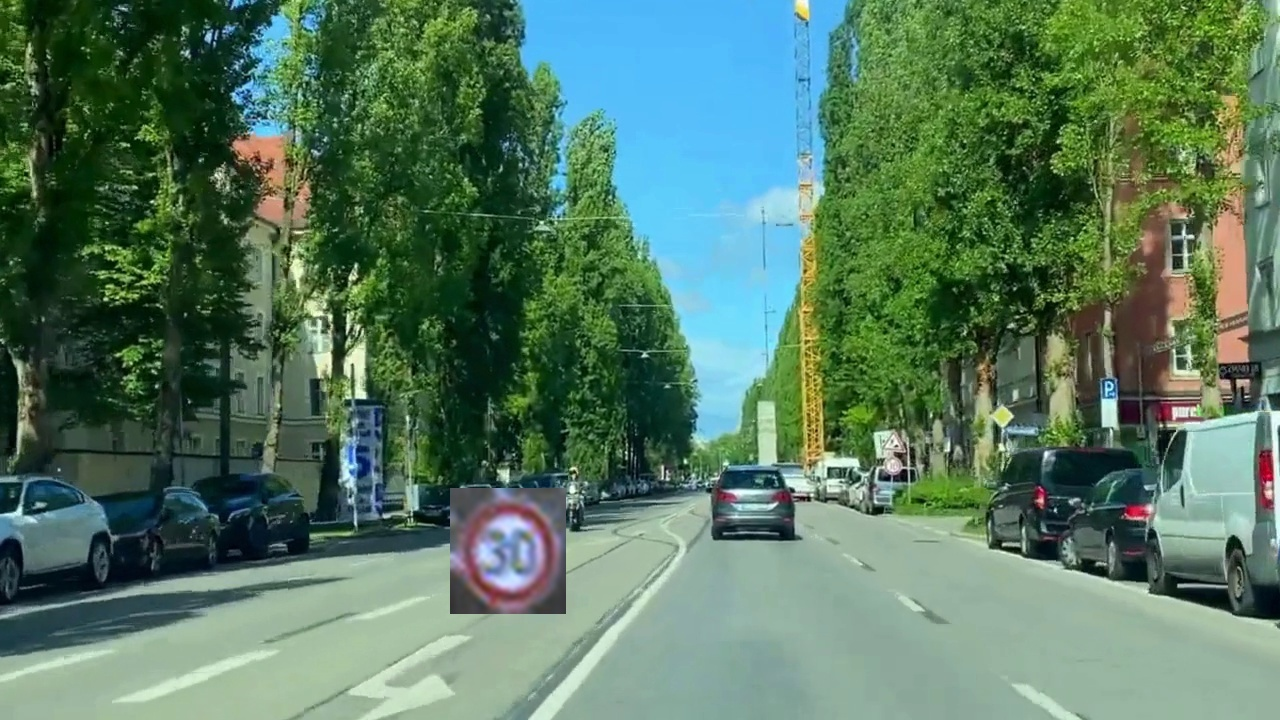Speed 30: (450, 488, 566, 614)
